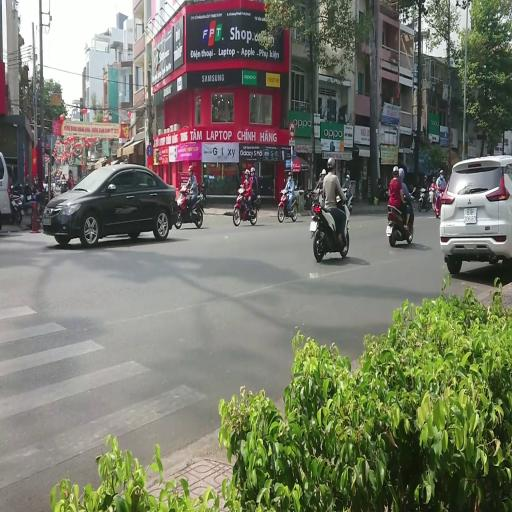bikes: (309, 188, 350, 262), (386, 186, 416, 246), (8, 181, 46, 225), (174, 186, 204, 228), (232, 188, 259, 226), (277, 188, 298, 222), (8, 182, 24, 224), (28, 184, 46, 221), (308, 188, 322, 214), (341, 183, 353, 213), (434, 186, 444, 218), (418, 186, 430, 211), (427, 184, 436, 210), (197, 182, 206, 202), (60, 180, 69, 193)
helmet: (327, 157, 335, 168), (398, 168, 404, 182), (320, 168, 326, 180), (392, 165, 398, 176), (33, 173, 38, 185), (188, 165, 194, 172), (180, 186, 186, 193), (250, 167, 256, 173), (238, 188, 244, 194), (245, 169, 250, 176), (321, 169, 326, 175), (440, 170, 444, 176), (432, 177, 436, 183), (288, 172, 292, 178), (240, 184, 244, 190), (281, 190, 286, 194), (346, 175, 349, 181), (69, 169, 72, 174), (240, 183, 243, 188), (424, 176, 427, 180)
